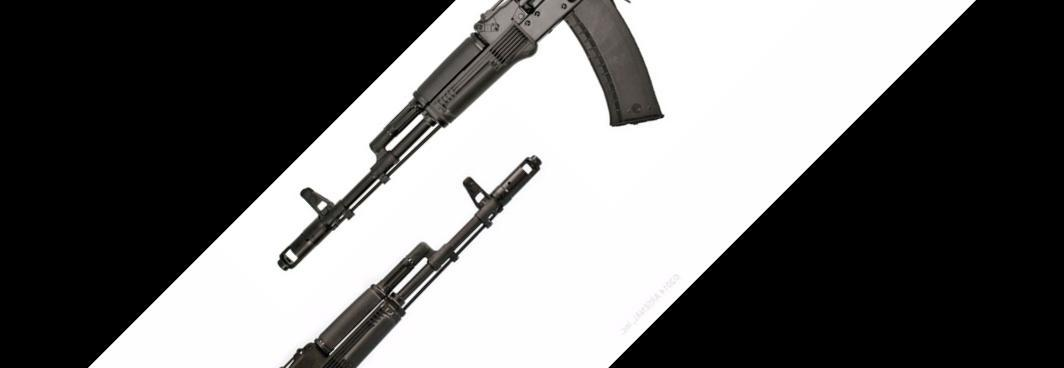larga: (275, 0, 666, 272), (282, 154, 541, 368)
